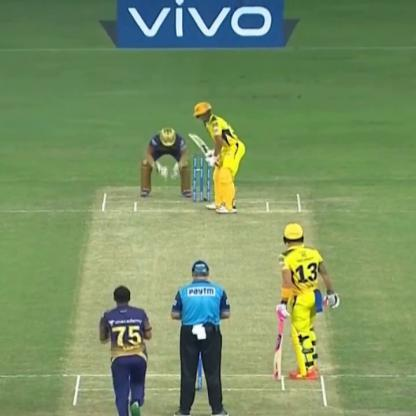bat: (182, 128, 219, 169)
pitch: (66, 188, 333, 414)
